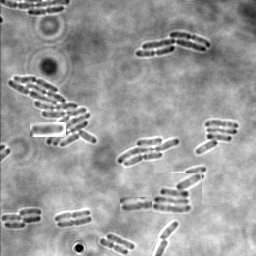Dividing: (120, 197, 166, 212), (30, 122, 66, 137), (99, 238, 128, 255), (54, 209, 90, 222), (56, 217, 92, 228), (27, 7, 64, 17)
Microcolony: (7, 76, 98, 147), (152, 173, 202, 214), (117, 137, 180, 168), (135, 32, 211, 57), (195, 120, 238, 155), (1, 208, 42, 229)
Rod: (106, 233, 135, 251), (157, 222, 178, 240), (184, 167, 206, 177)
